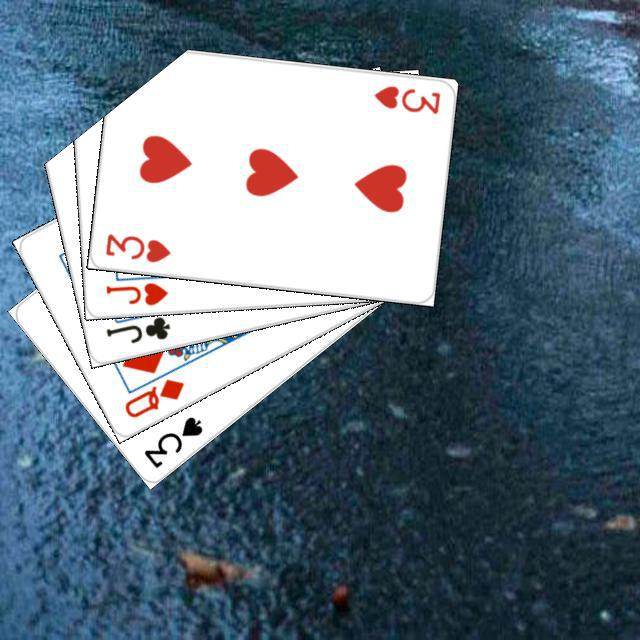3h: (369, 80, 442, 116), (100, 229, 173, 264)
3s: (139, 411, 205, 470)
Jc: (101, 311, 172, 345)
Jh: (100, 278, 170, 307)
Qd: (119, 373, 186, 420)
